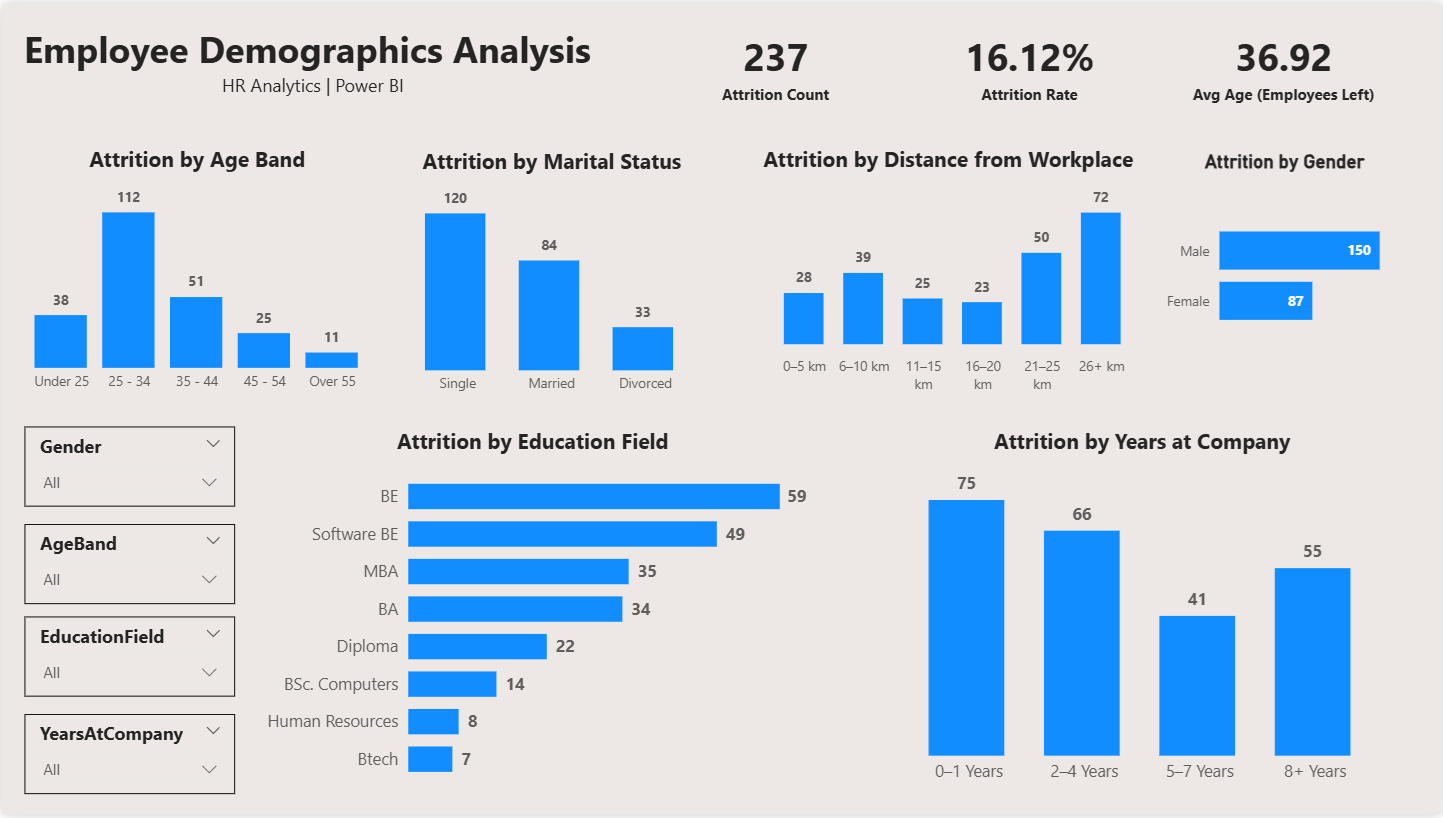

The page's visual inventory and layout, read from the dashboard file:
{"tool":"powerbi","page":{"name":"Employee Demographics Analysis","canvas":[1280,720],"ordinal":2},"visuals":[{"type":"textbox","box":[14.7,13.5,523.9,85.8],"z":0},{"type":"card","fields":{"Values":["Key Measures.Employees Left"]},"box":[579.3,13.5,217.9,85.8],"z":1000},{"type":"card","fields":{"Values":["Key Measures.Attrition Rate"]},"box":[804.5,13.5,217.9,85.8],"z":2000},{"type":"card","fields":{"Values":["Key Measures.Avg Age (Attrition)"]},"box":[1029.8,13.5,219.1,85.8],"z":3000},{"type":"clusteredBarChart","title":"Attrition by Education Field","fields":{"Y":["Key Measures.Employees Left"],"Category":["Dim_Employee.EducationField"]},"box":[223.6,376,496.8,326.3],"z":4000},{"type":"group","id":"g1","title":"Group 1","box":[0,124.9,347.2,229.2],"z":5000},{"type":"clusteredColumnChart","title":"Attrition by Age Band","fields":{"Y":["Key Measures.Employees Left"],"Category":["Dim_Employee.AgeBand"]},"box":[0,124.9,347.2,229.2],"z":5000,"group":"g1"},{"type":"columnChart","title":"Attrition by Marital Status","fields":{"Category":["Dim_Employee.MaritalStatus"],"Y":["Key Measures.Employees Left"]},"box":[337.6,126.2,301.9,229.2],"z":6000},{"type":"slicer","fields":{"Values":["Dim_Employee.Gender"]},"box":[20.3,376,187.4,71.1],"z":7000},{"type":"slicer","fields":{"Values":["Dim_Employee.AgeBand"]},"box":[20.3,461.8,187.4,71.1],"z":8000},{"type":"slicer","fields":{"Values":["Dim_Employee.EducationField"]},"box":[20.3,544.3,187.4,71.1],"z":9000},{"type":"slicer","fields":{"Values":["Fact_Attrition.YearsAtCompany"]},"box":[20.3,631.2,187.4,71.1],"z":10000},{"type":"clusteredColumnChart","title":"Attrition by Distance from Workplace","fields":{"Y":["Key Measures.Employees Left"],"Category":["Fact_Attrition.Distance Band"]},"box":[660,124.9,362.3,229.2],"z":11000},{"type":"barChart","title":"Attrition by Gender","fields":{"Category":["Dim_Employee.Gender"],"Y":["Key Measures.Employees Left"]},"box":[1030.9,129.9,217.9,193.1],"z":12000},{"type":"clusteredColumnChart","title":"Attrition by Years at Company","fields":{"Y":["Key Measures.Employees Left"],"Category":["Fact_Attrition.Tenure Band"]},"box":[777.4,376,471.5,326.8],"z":13000}]}

Visuals, with their boxes in screenshot pixels (x1, y1, x2, y2), scaled from the page's 1280x720 canvas onto the 1443x818 screenshot:
textbox: (17, 15, 607, 113)
card - Key Measures.Employees Left: (653, 15, 899, 113)
card - Key Measures.Attrition Rate: (907, 15, 1153, 113)
card - Key Measures.Avg Age (Attrition): (1161, 15, 1408, 113)
"Attrition by Education Field" clusteredBarChart: (252, 427, 812, 798)
"Group 1" group: (0, 142, 391, 402)
"Attrition by Age Band" clusteredColumnChart: (0, 142, 391, 402)
"Attrition by Marital Status" columnChart: (381, 143, 721, 404)
slicer - Dim_Employee.Gender: (23, 427, 234, 508)
slicer - Dim_Employee.AgeBand: (23, 525, 234, 605)
slicer - Dim_Employee.EducationField: (23, 618, 234, 699)
slicer - Fact_Attrition.YearsAtCompany: (23, 717, 234, 798)
"Attrition by Distance from Workplace" clusteredColumnChart: (744, 142, 1152, 402)
"Attrition by Gender" barChart: (1162, 148, 1408, 367)
"Attrition by Years at Company" clusteredColumnChart: (876, 427, 1408, 798)
